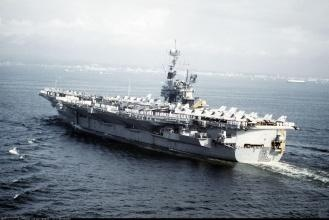warship: (33, 53, 291, 164)
